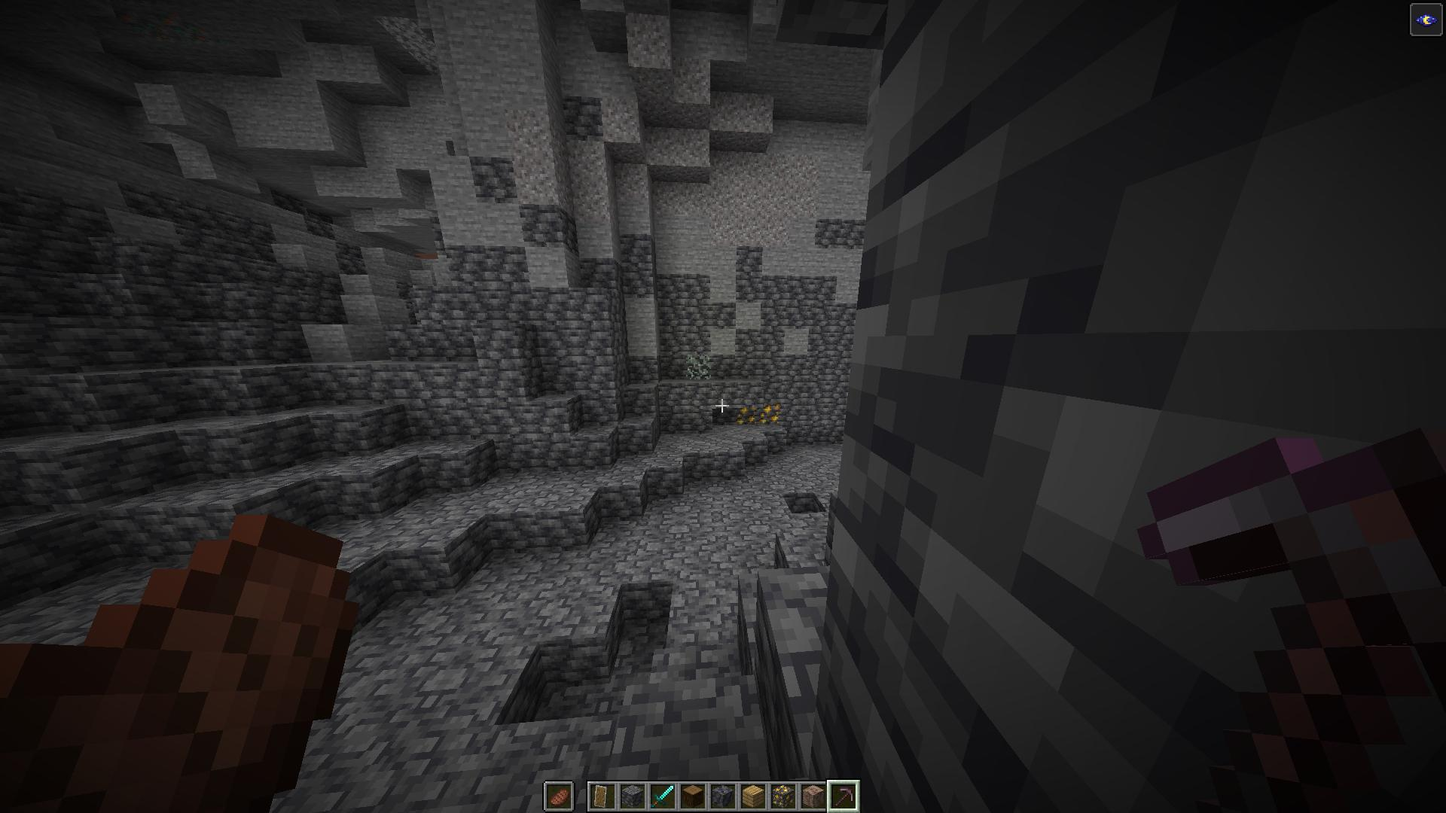gold ore: (756, 398, 783, 427), (737, 404, 759, 426)
